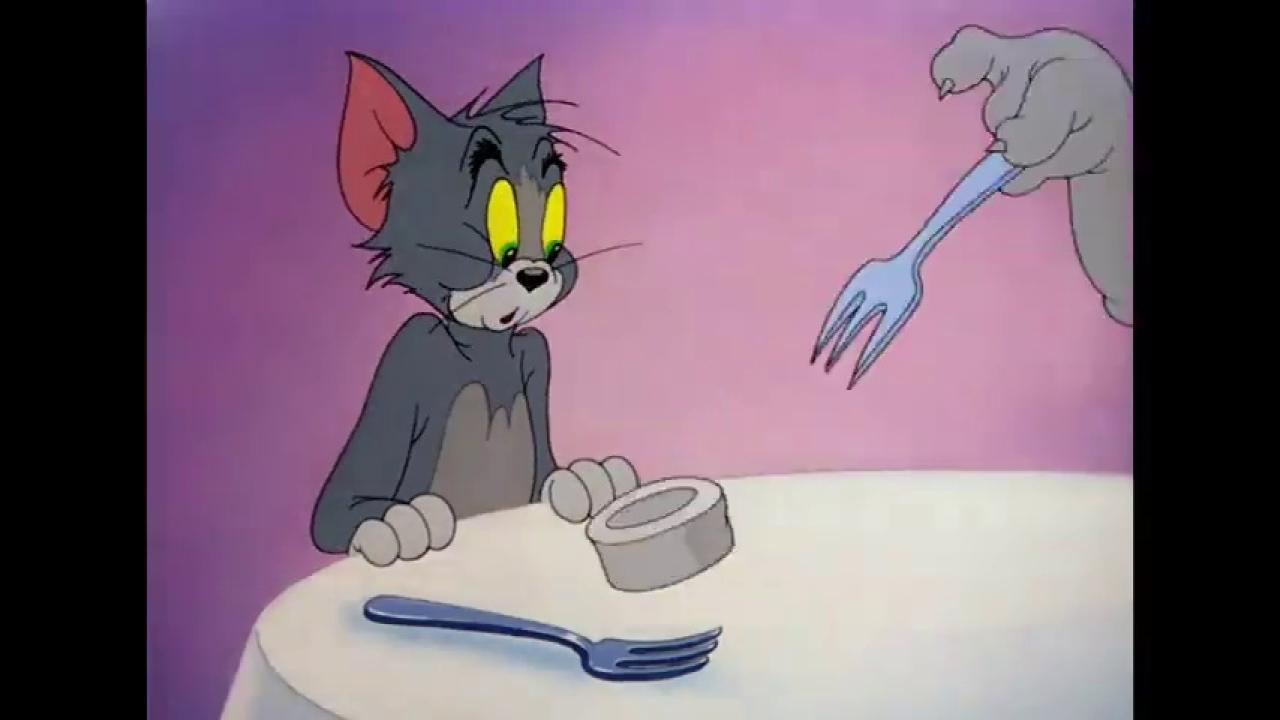Tom: (307, 49, 644, 569)
